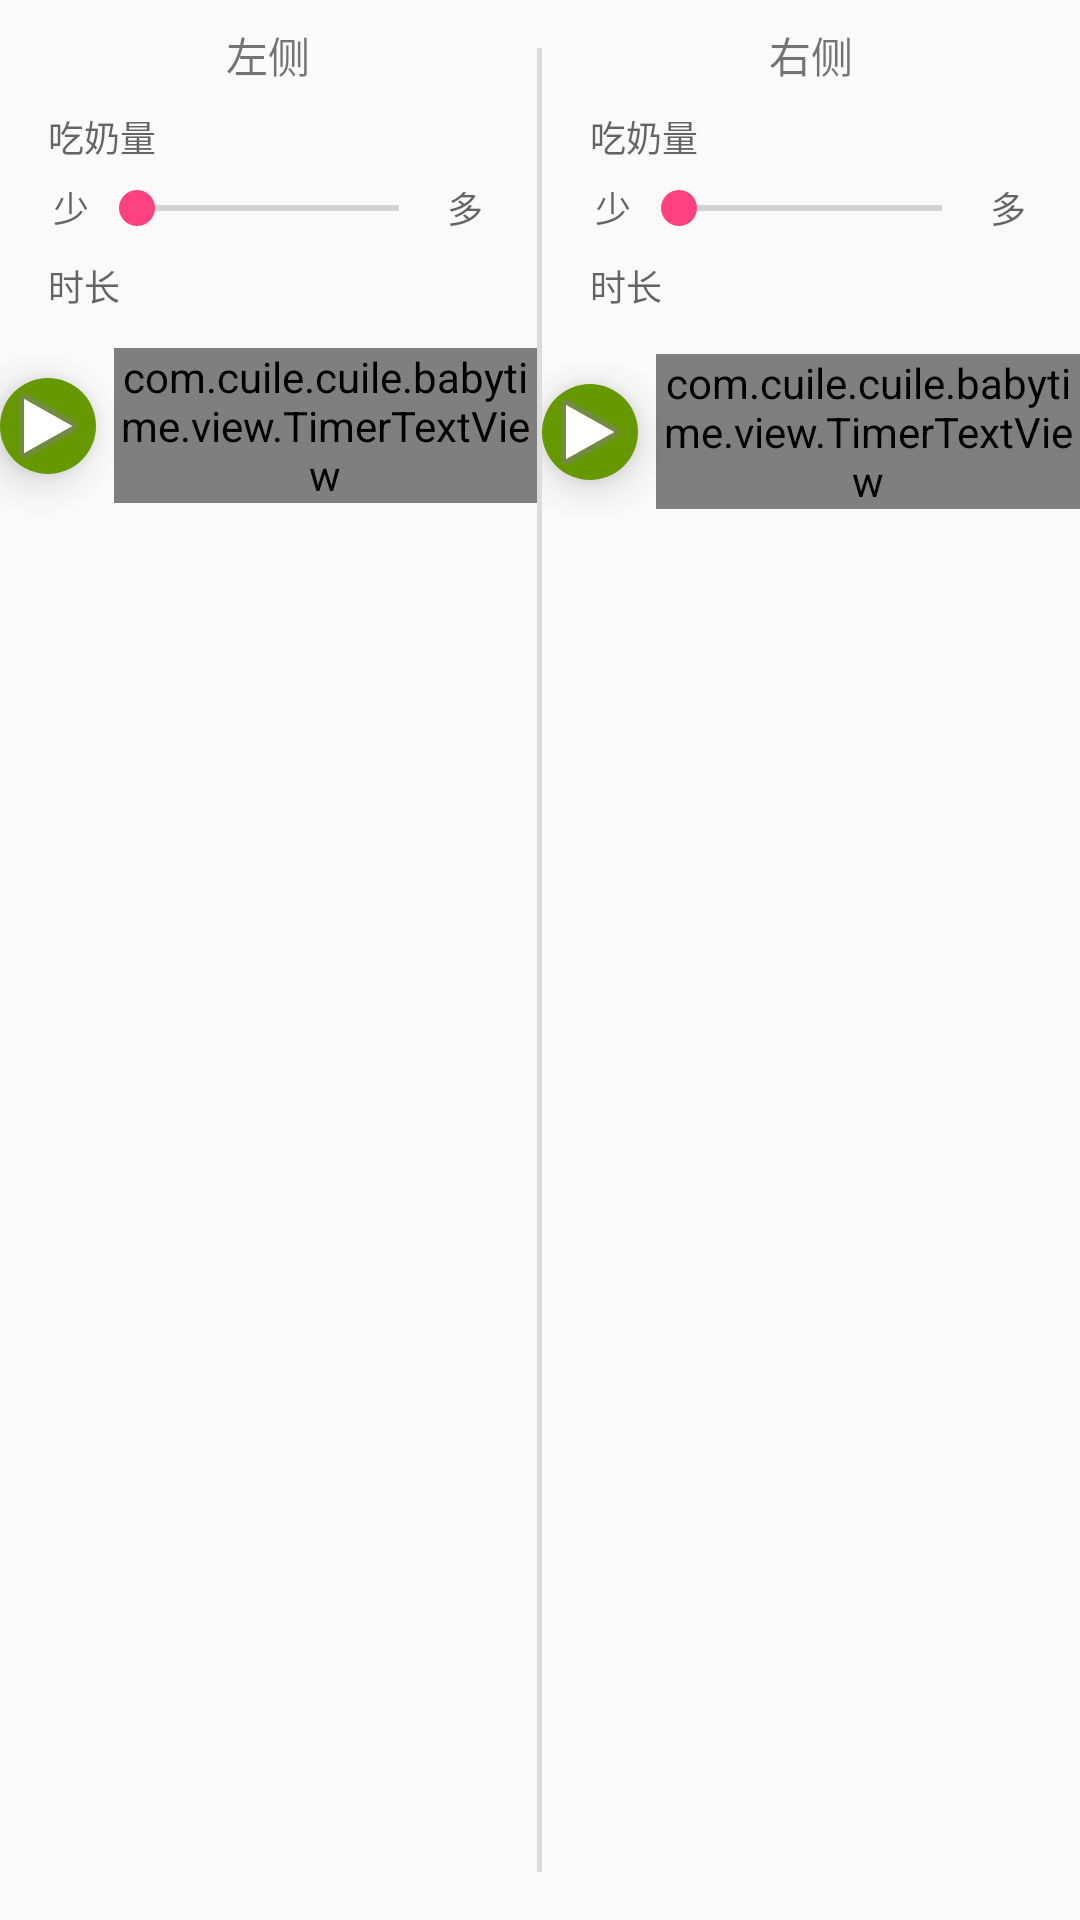

Icon click points for this 1080 × 1920 phone screenshot, format point (x, y):
play: point (48, 426), point (590, 432)
